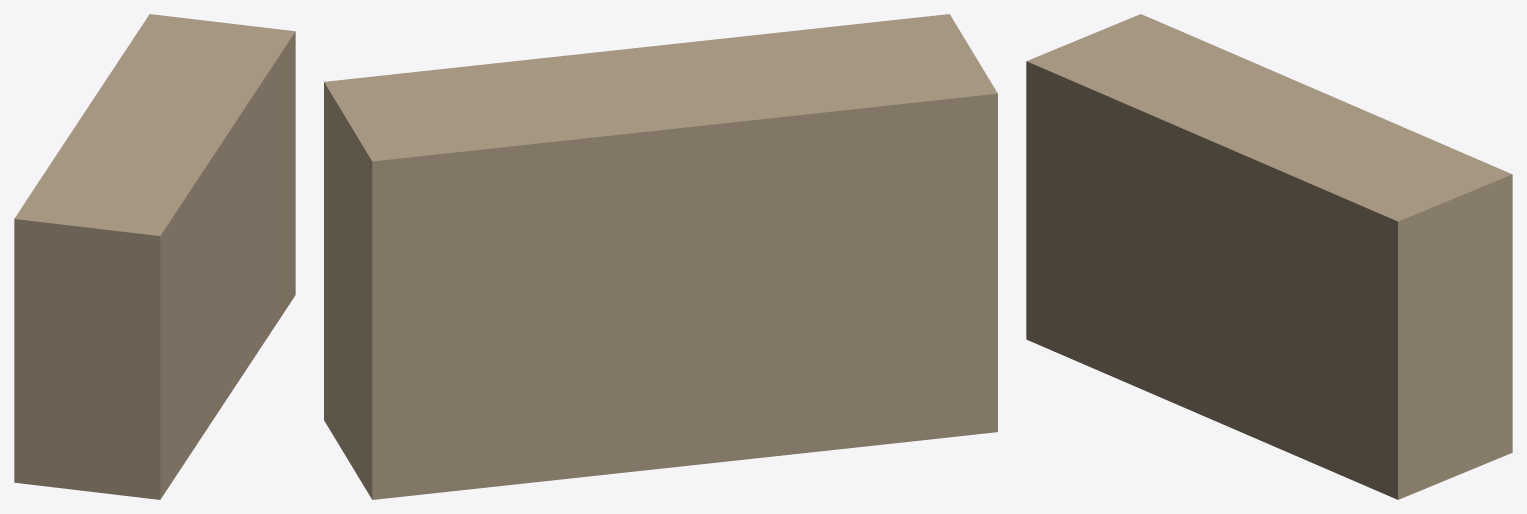
Rendered from bld_100469746.dae.
3 renders of one model, left to right at view 1: azimuth 30°, elevation 25°; view 2: azimuth 150°, elevation 25°; view 3: azimuth 270°, elevation 25°, orthographic. The views are drawn at different scales.
Visible parts, largest first — view 1: bld_100469746; view 2: bld_100469746; view 3: bld_100469746.
Boxes of the visible parts, x1,y1,x2,y2 form: bld_100469746: [14, 14, 295, 499]; bld_100469746: [324, 14, 997, 499]; bld_100469746: [1026, 14, 1512, 499].
Bounding box in the file's own units: 12.8 × 12.66 × 8.
